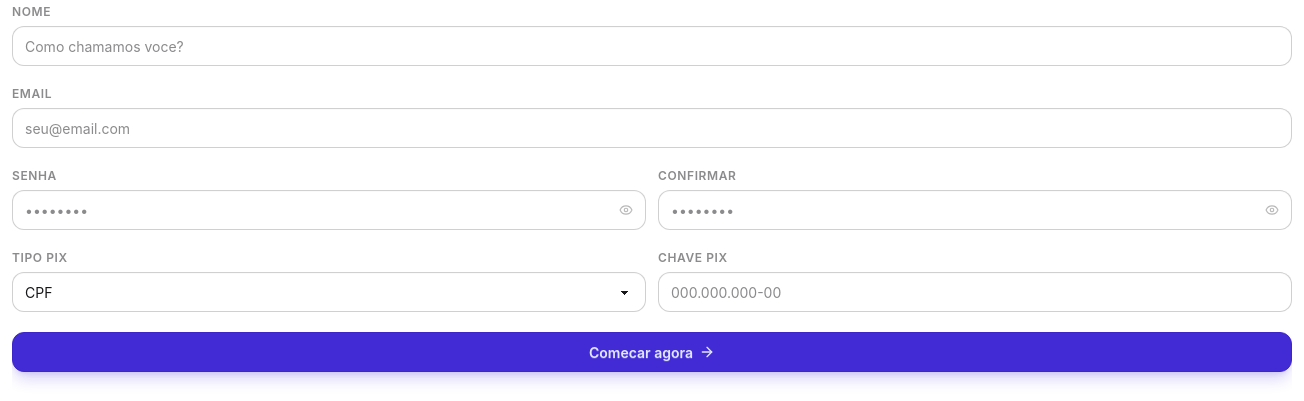
Test case: Register › should update pix key placeholder when type changes
This screenshot has width=1304, height=401.
Expected: the field with placeholder "000.000.000-00" is shown, [658,272,1292,312]
Select "Telefone" in the dropdown: (329, 292) [12,272,646,312]
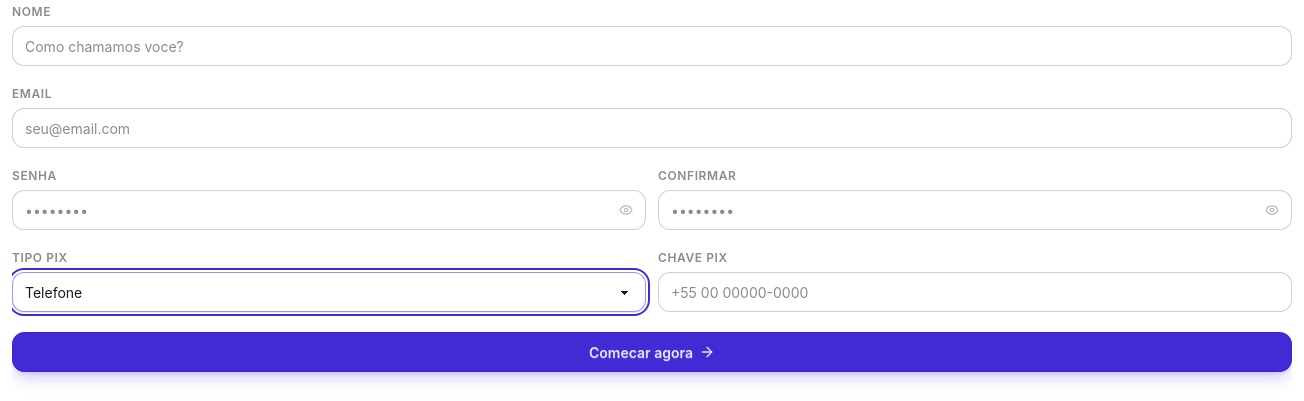
Expected: the field with placeholder "+55 00 00000-0000" is shown, [658,272,1292,312]
Select "Aleatória" in the dropdown: (329, 292) [12,272,646,312]
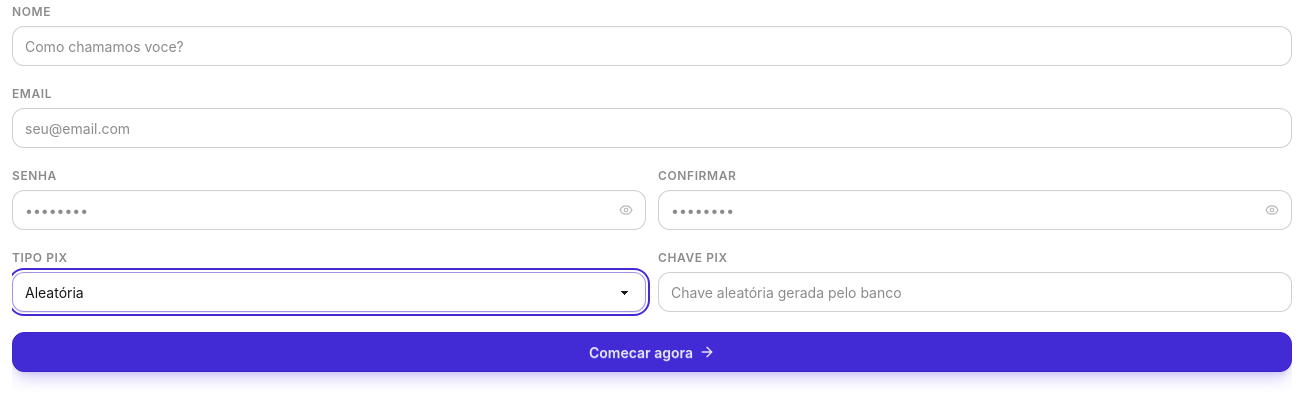
Expected: the field with placeholder "Chave aleatória gerada pelo banco" is shown, [658,272,1292,312]
